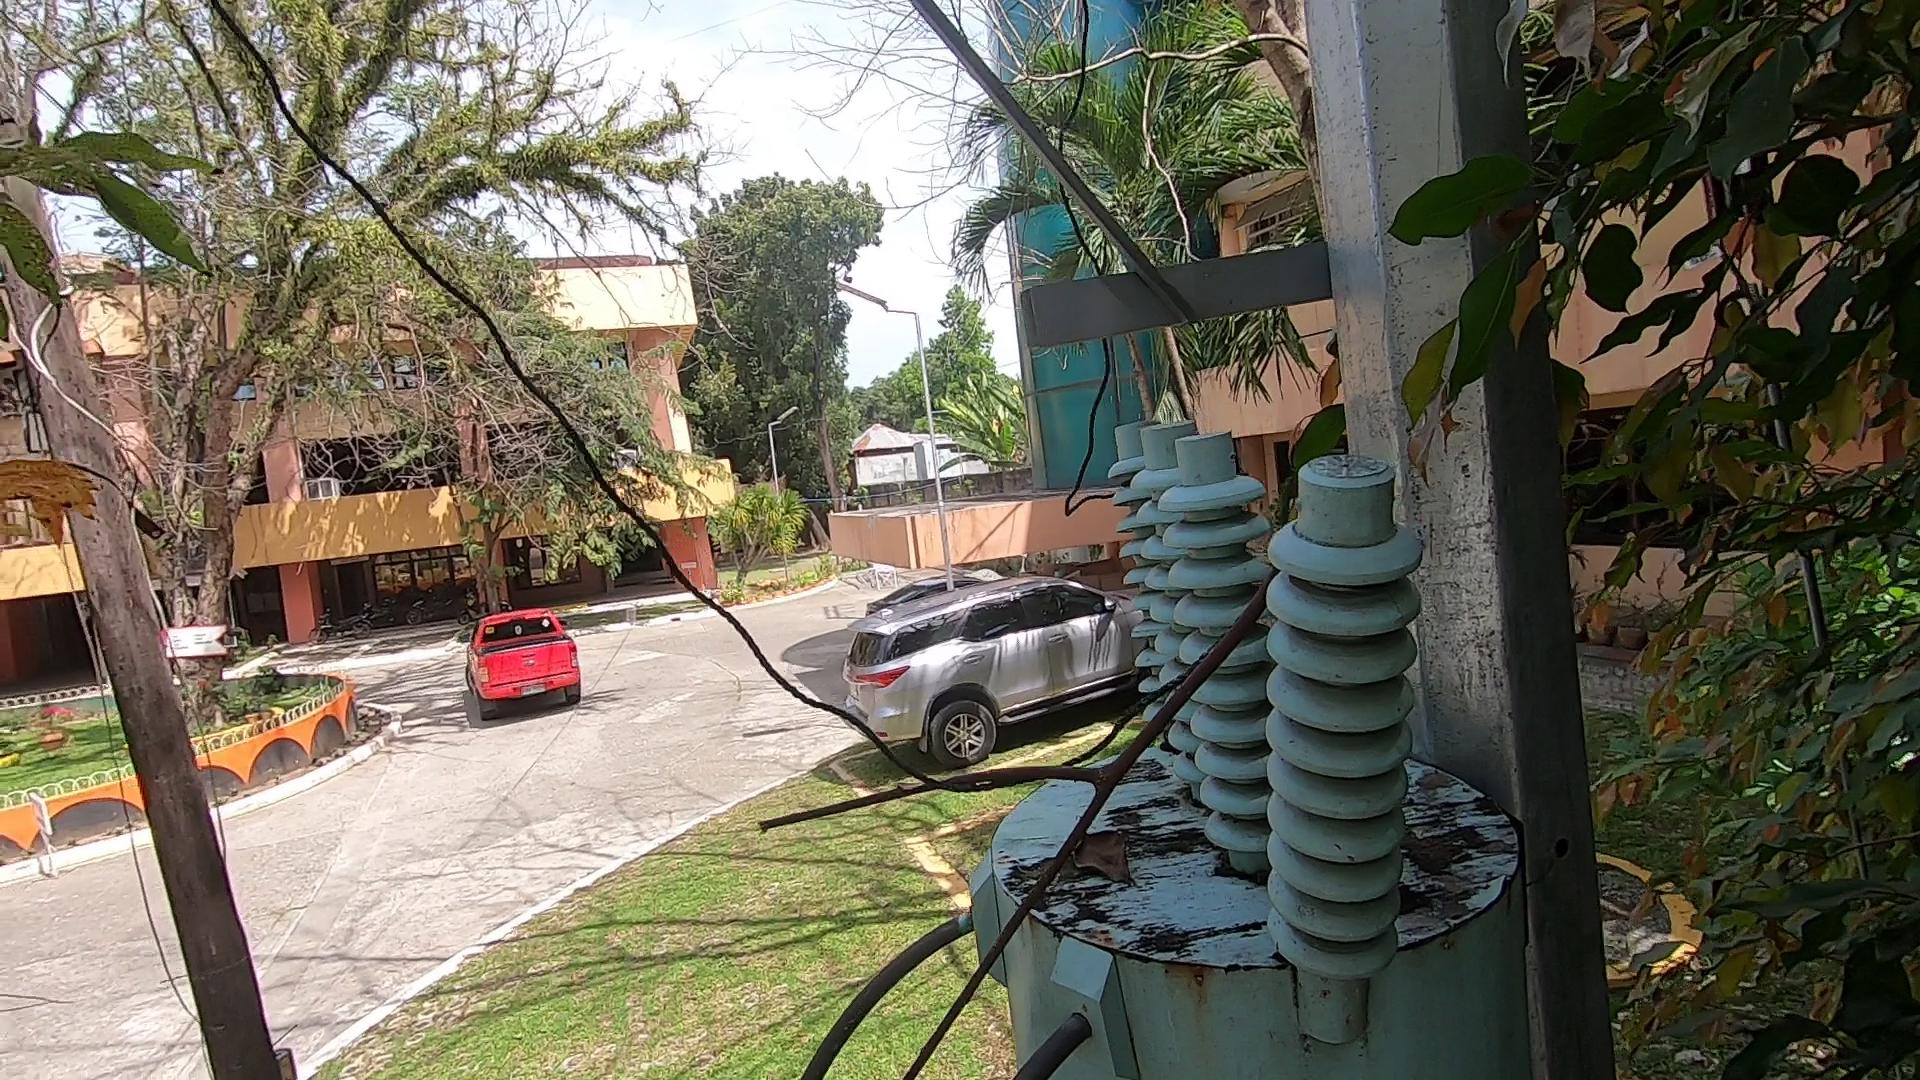leaf: (1038, 810, 1145, 887)
tree branch: (720, 568, 1360, 1080)
